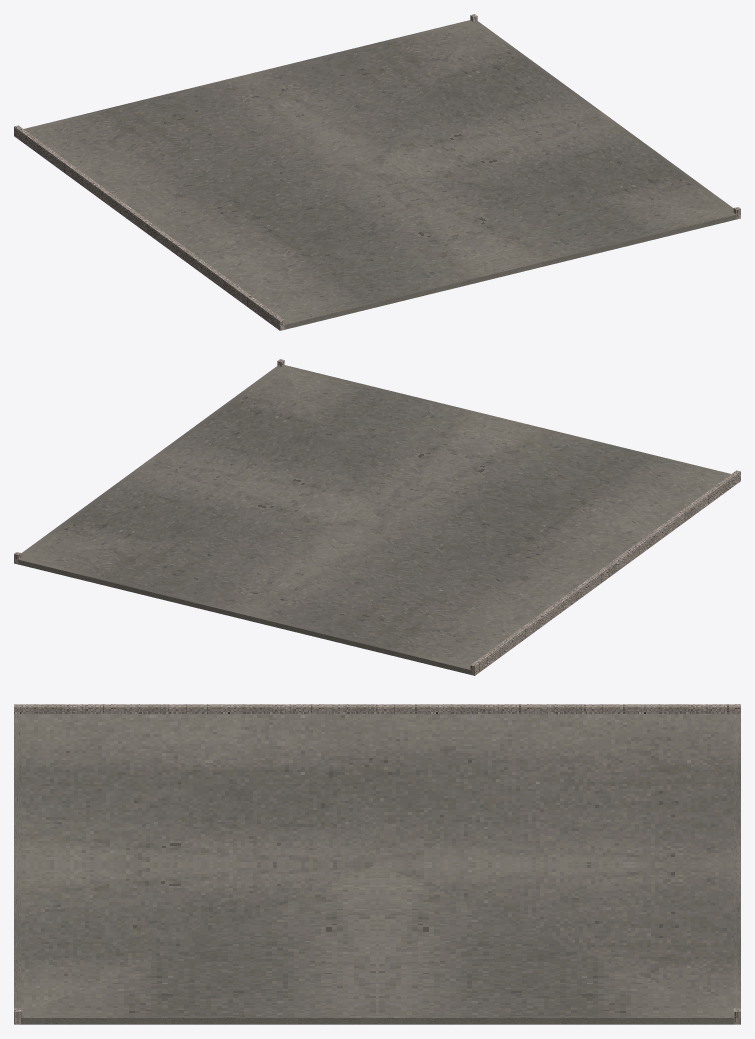
The model's file is road_3_Tjunction_no_sides.glb.
The picture shows the model from 3 angles, top to bottom: view 1: azimuth 30°, elevation 25°; view 2: azimuth 150°, elevation 25°; view 3: azimuth 270°, elevation 25°; orthographic projection. The views are drawn at different scales.
Parts seen in each view (by area): view 1: road_3_Tjunction_no_sides; view 2: road_3_Tjunction_no_sides; view 3: road_3_Tjunction_no_sides.
Part boxes in pixels (x1,y1,x2,y2): road_3_Tjunction_no_sides: [14, 14, 740, 330]; road_3_Tjunction_no_sides: [14, 359, 740, 675]; road_3_Tjunction_no_sides: [14, 704, 740, 1024].
Size of the model in its own units: 16 by 0.32 by 16.
Materials: 2 (2 with a texture image).
